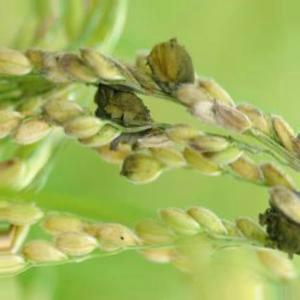Leaf_Scald: (96, 83, 154, 128), (151, 46, 205, 89), (262, 213, 300, 255)
